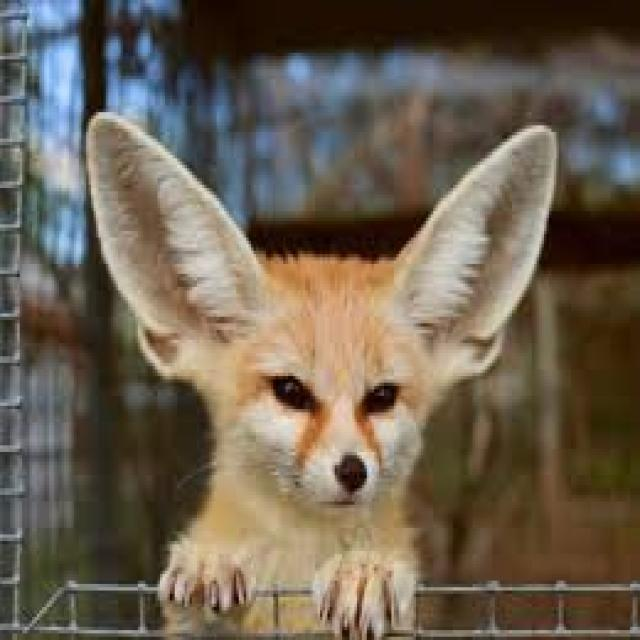fox: (84, 106, 558, 636)
